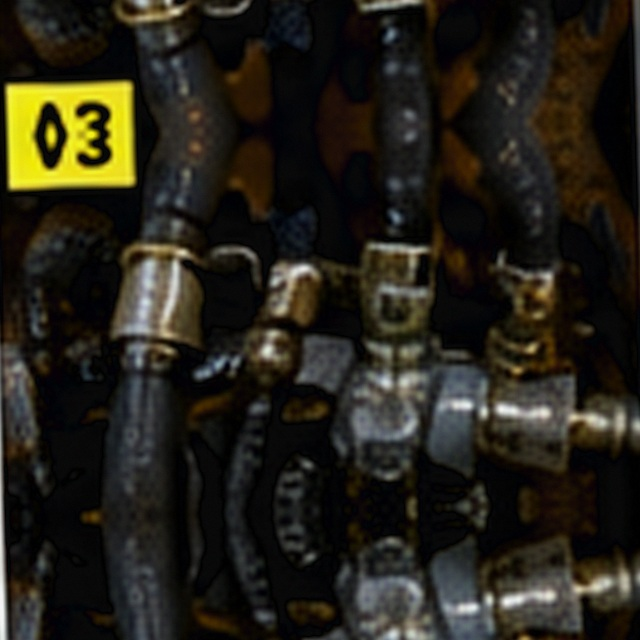hydraulic_oil_leak: (208, 210, 426, 430)
